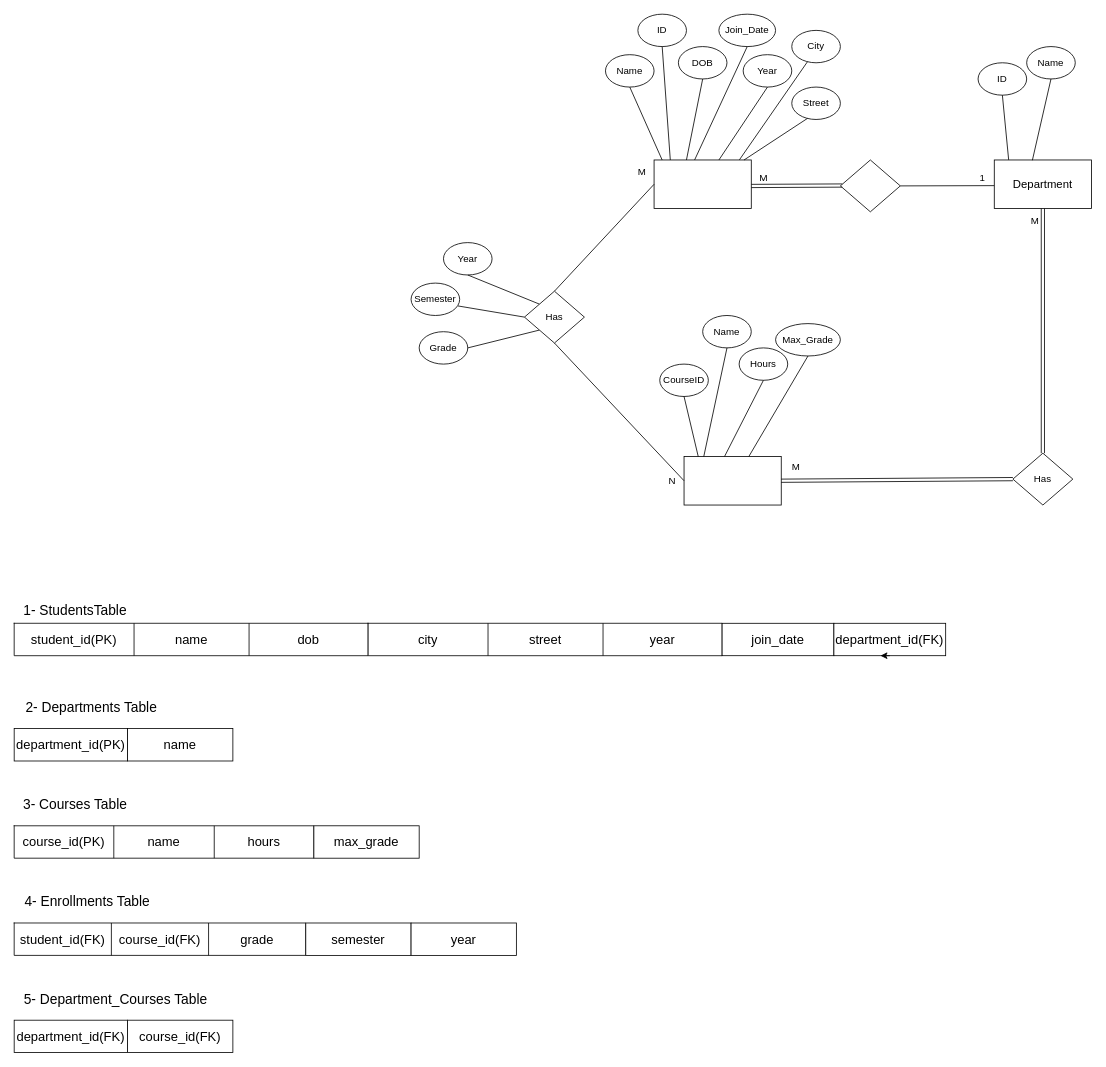
The diagram is 1106 pixels wide and 1067 high, and some of its shapes have lost their labels. Each missing label, with the box of its shape:
Assigned: (840, 159, 900, 212)
Course: (683, 456, 781, 505)
Student: (653, 159, 751, 209)
